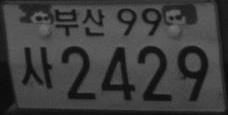2: (60, 44, 97, 101), (137, 45, 173, 101)
4: (101, 46, 136, 100)
9: (176, 44, 208, 101), (116, 6, 138, 35), (141, 6, 162, 36)
부산_H: (54, 7, 106, 37)
사: (21, 46, 53, 88)
